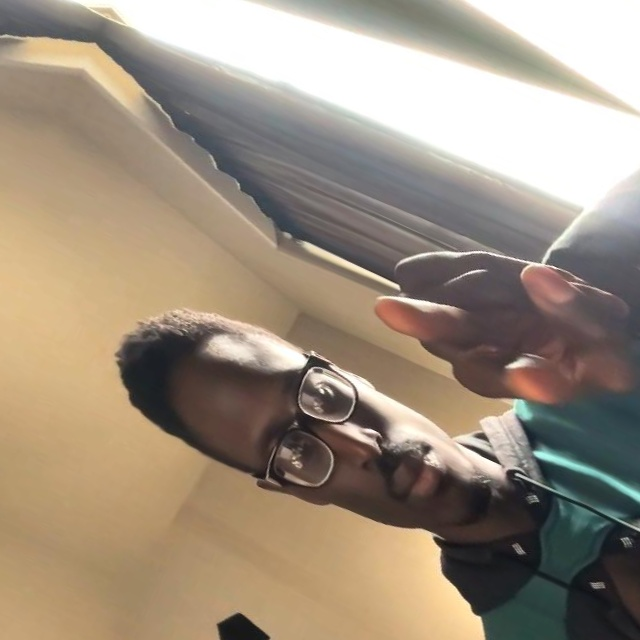Scissors: (352, 195, 640, 454)
